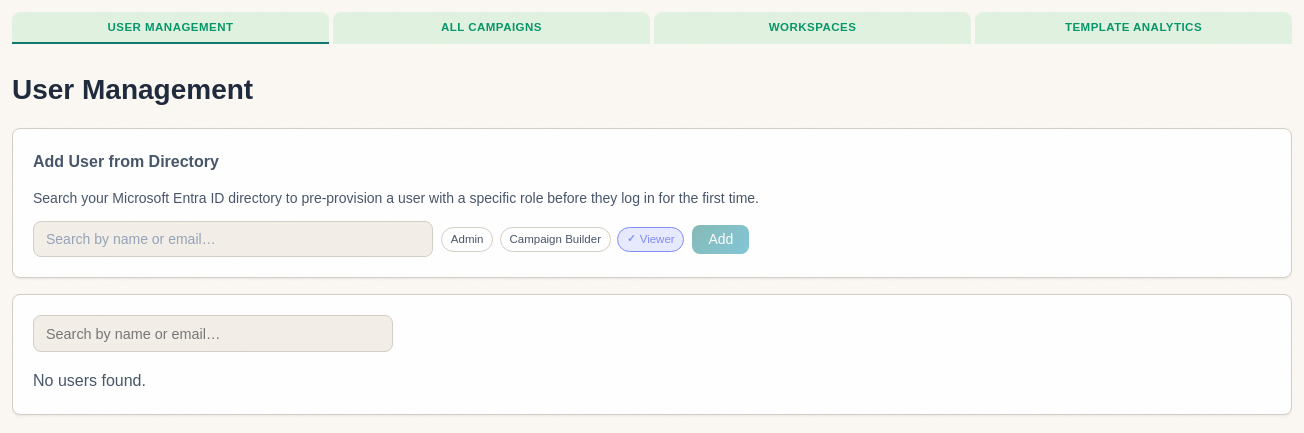
Test: Admin workspaces tab › reactivates an inactive team workspace
Click the button "Workspaces". click: (812,28)
box: [654,12,971,44]
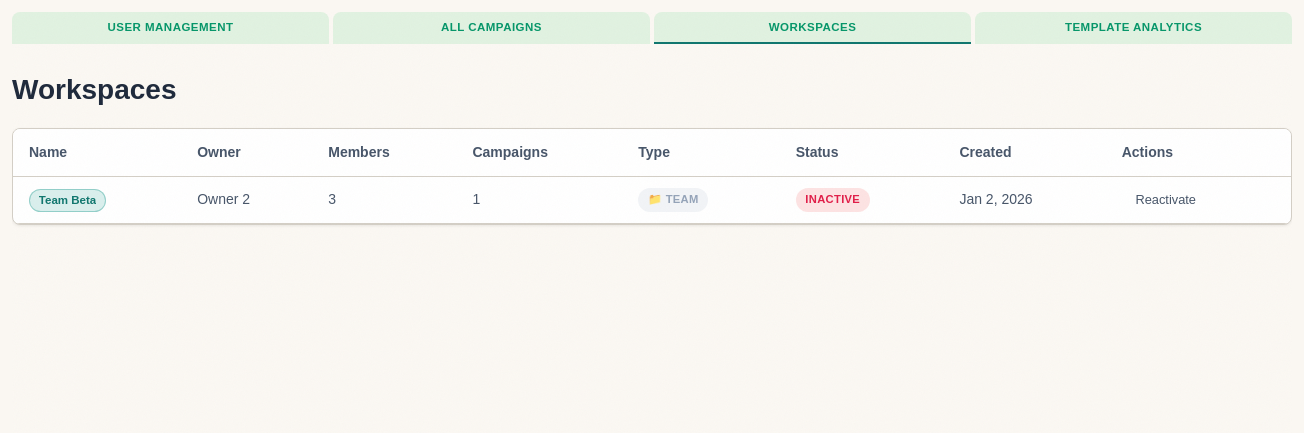
Click the button "Reactivate". click: (1166,200)
box: [1122,186,1210,213]
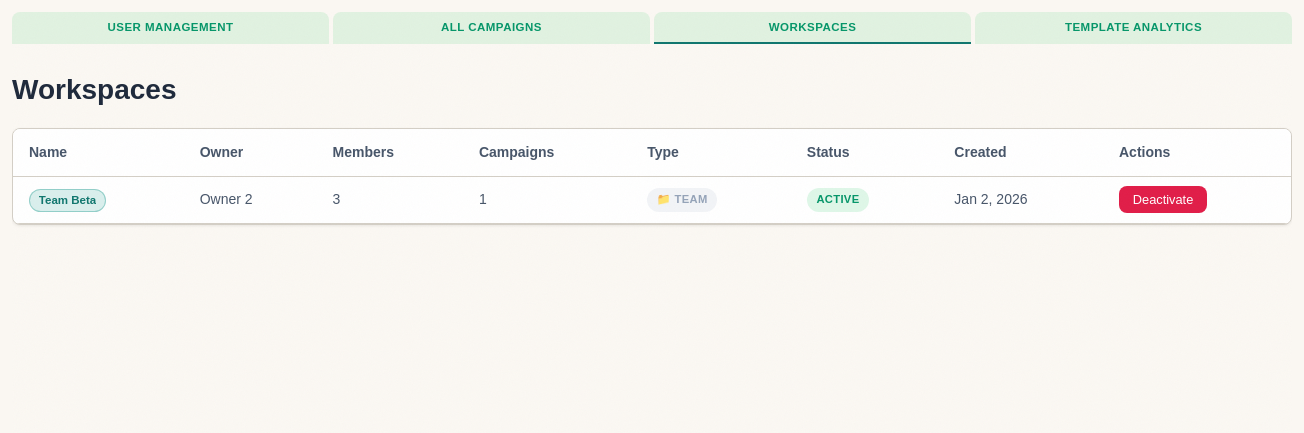
Now the text "Active" is shown, box [807,188,869,212]
Now the button "Deactivate" is shown, box [1119,186,1207,213]
